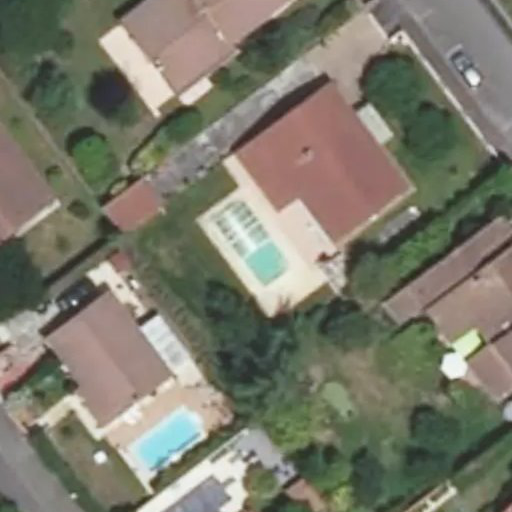pool: (217, 218, 294, 265)
